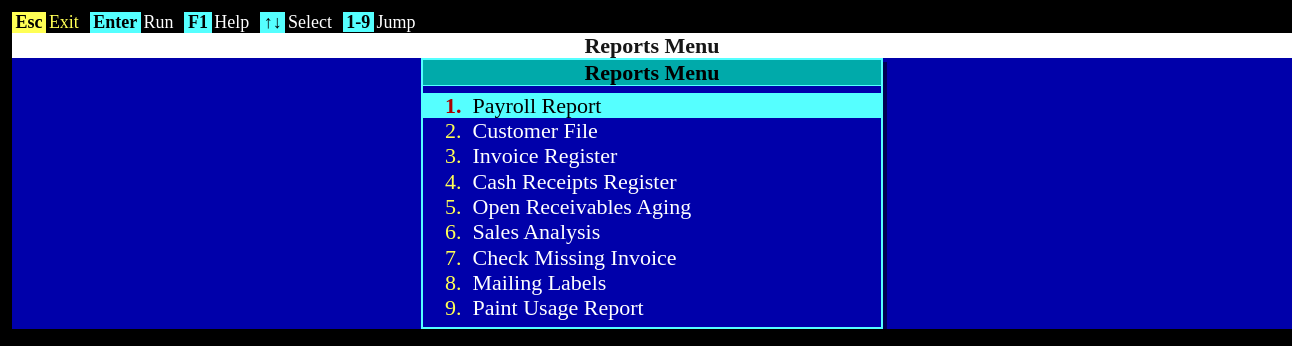
ReportsScreen aging › searches aging by company and shows contact right of the name
Click the button "5.Open Receivables Aging".
click(652, 207)  # box [423,194,881,219]
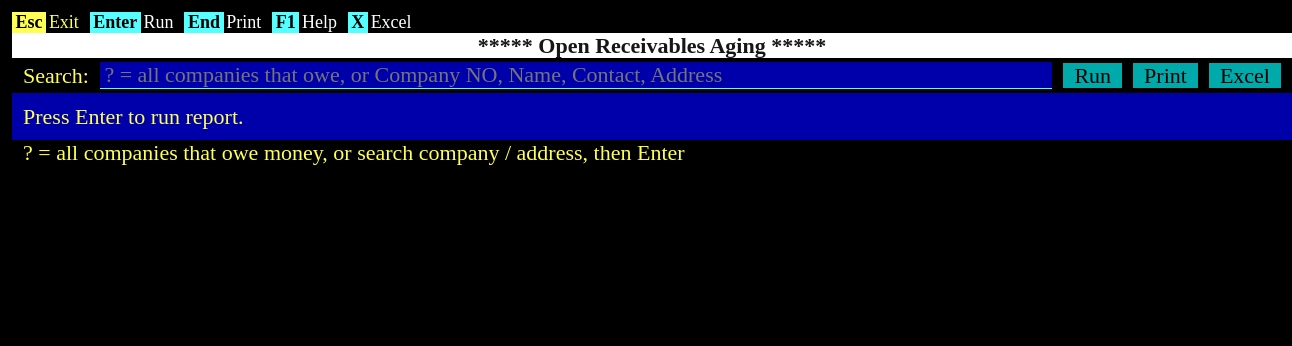
Type "ELAINE" into the field named "Aging company search".
click(576, 76); type("ELAINE")  # box [100,62,1052,89]
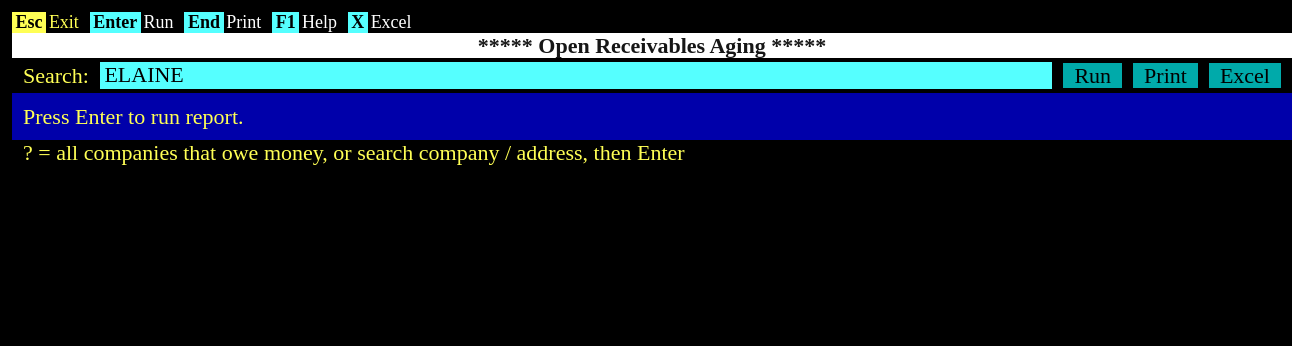
Click the button "Run".
click(1093, 76)  # box [1063,63,1122,88]
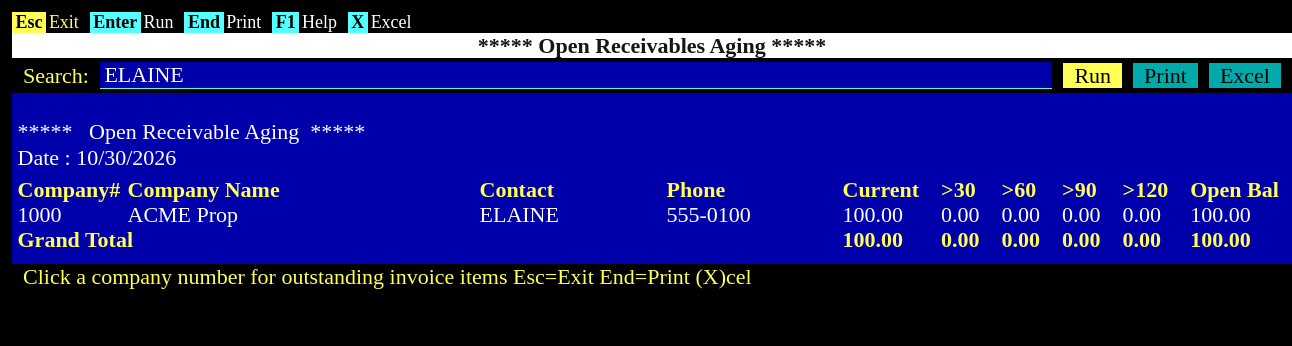
Now the text "Contact" is shown, box [480,177,554,202]
Now the text "ACME Prop" is shown, box [128,202,238,227]
Now the text "ELAINE" is shown, box [480,202,559,227]
